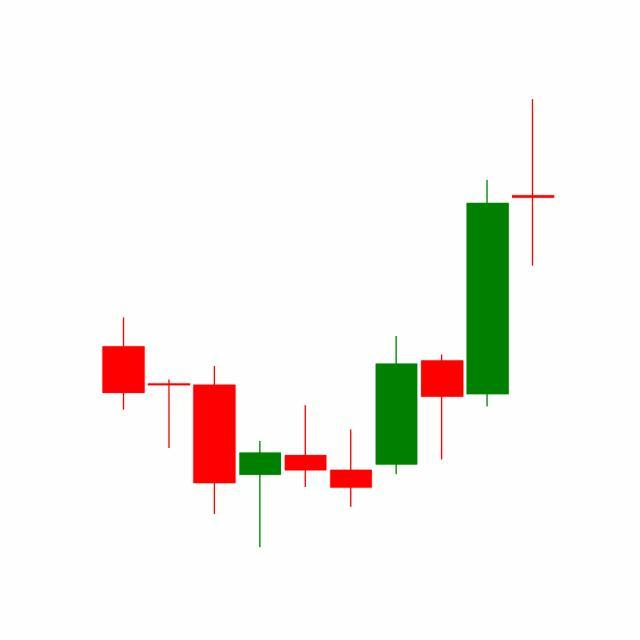Hikkake Pattern: (283, 176, 512, 511)
